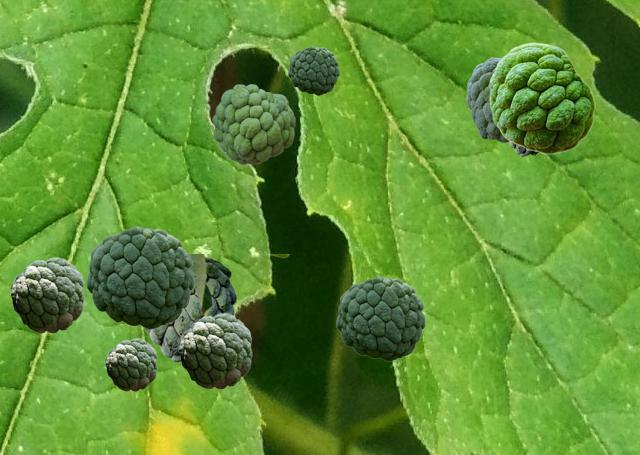atis: (143, 254, 288, 361), (489, 42, 594, 153), (86, 226, 193, 328), (336, 276, 424, 360), (212, 84, 294, 163), (178, 313, 251, 388), (10, 257, 83, 332), (466, 57, 508, 141), (105, 338, 156, 390), (288, 46, 338, 94), (507, 142, 538, 155)
